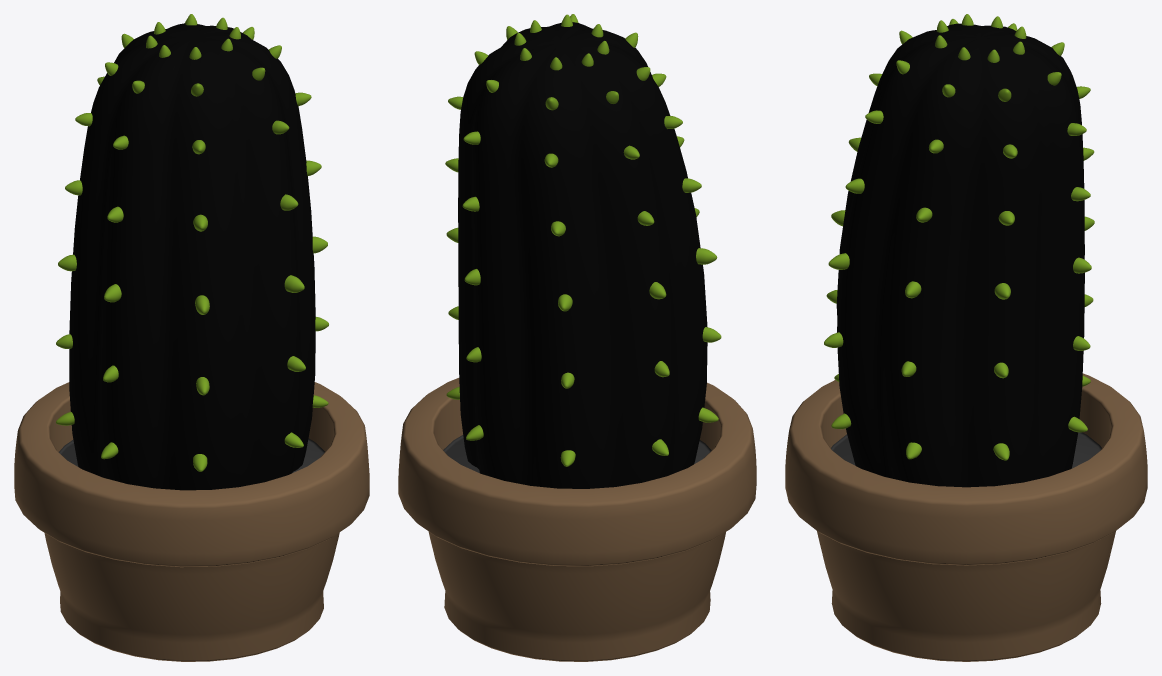
The model's file is SM_Cactus_03.fbx.
3 views of the same model, side by side, from view 1: azimuth 30°, elevation 25°; view 2: azimuth 150°, elevation 25°; view 3: azimuth 270°, elevation 25° (orthographic).
Visible parts, largest first — view 1: Cylinder.006, Circle.002; view 2: Cylinder.006, Circle.002; view 3: Cylinder.006, Circle.002.
Part boxes in pixels (x1=…): Cylinder.006: x1=56, y1=14, x2=328, y2=490; Circle.002: x1=14, y1=382, x2=369, y2=661; Cylinder.006: x1=445, y1=14, x2=721, y2=488; Circle.002: x1=398, y1=378, x2=756, y2=661; Cylinder.006: x1=824, y1=14, x2=1094, y2=487; Circle.002: x1=785, y1=373, x2=1147, y2=661.
Size of the model in its own units: 91.65 by 162 by 91.65.
